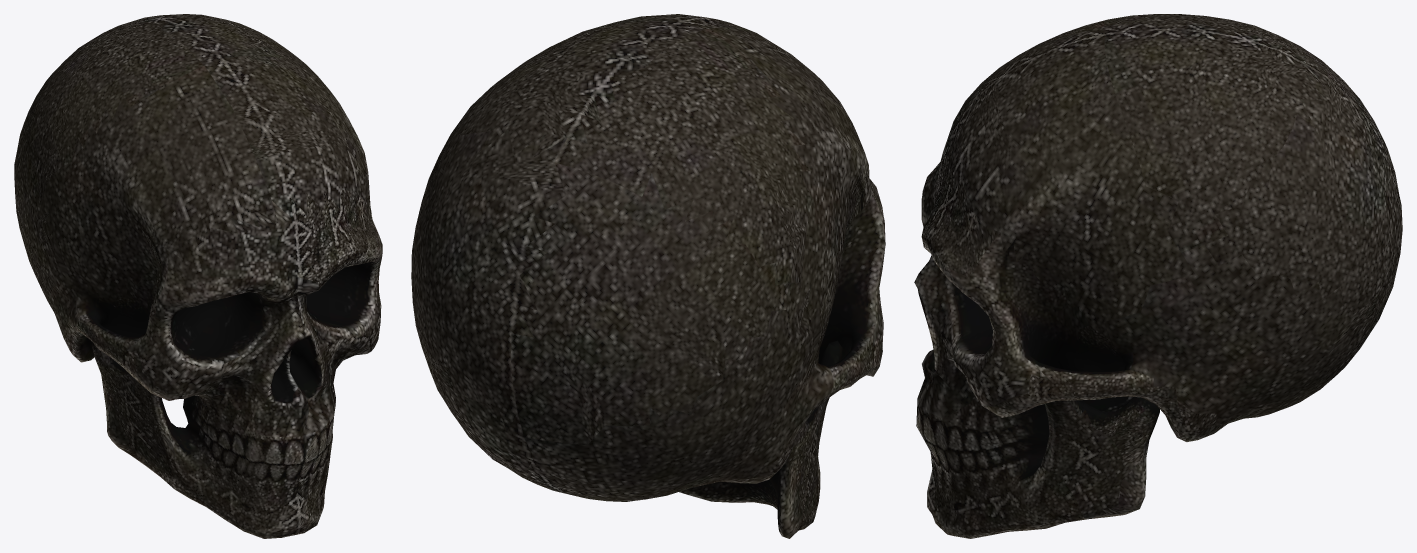
Rendered from magic_skull_necromancer.glb.
3 renders of one model, left to right at view 1: azimuth 30°, elevation 25°; view 2: azimuth 150°, elevation 25°; view 3: azimuth 270°, elevation 25°, orthographic. The views are drawn at different scales.
Parts seen in each view (by area): view 1: tripo_node_91514260-36cb-4526-b730-ccbb8f21de31; view 2: tripo_node_91514260-36cb-4526-b730-ccbb8f21de31; view 3: tripo_node_91514260-36cb-4526-b730-ccbb8f21de31.
Boxes of the visible parts, x1=… form: tripo_node_91514260-36cb-4526-b730-ccbb8f21de31: x1=14, y1=14, x2=382, y2=538; tripo_node_91514260-36cb-4526-b730-ccbb8f21de31: x1=411, y1=14, x2=885, y2=538; tripo_node_91514260-36cb-4526-b730-ccbb8f21de31: x1=914, y1=14, x2=1402, y2=538.
Size of the model in its own units: 0.1502 by 0.2225 by 0.1999.
1 material, 1 textured.
